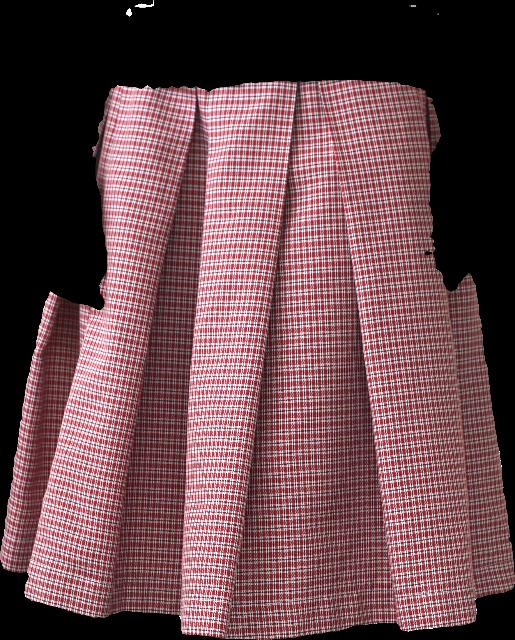skirt: (0, 80, 514, 639)
